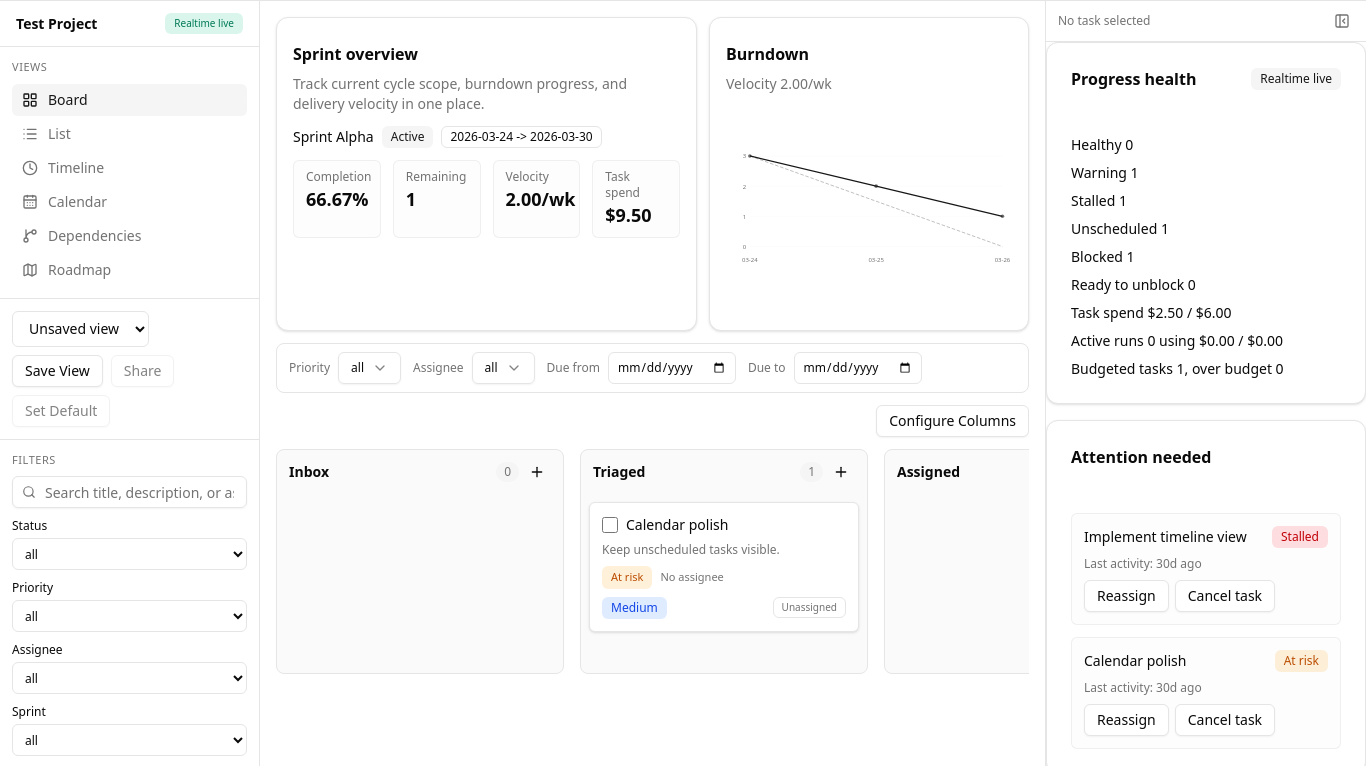
ProjectTaskWorkspace › renders progress health signals in the list workspace view
Click the button "List" at (130,134), box [12,118,247,150]
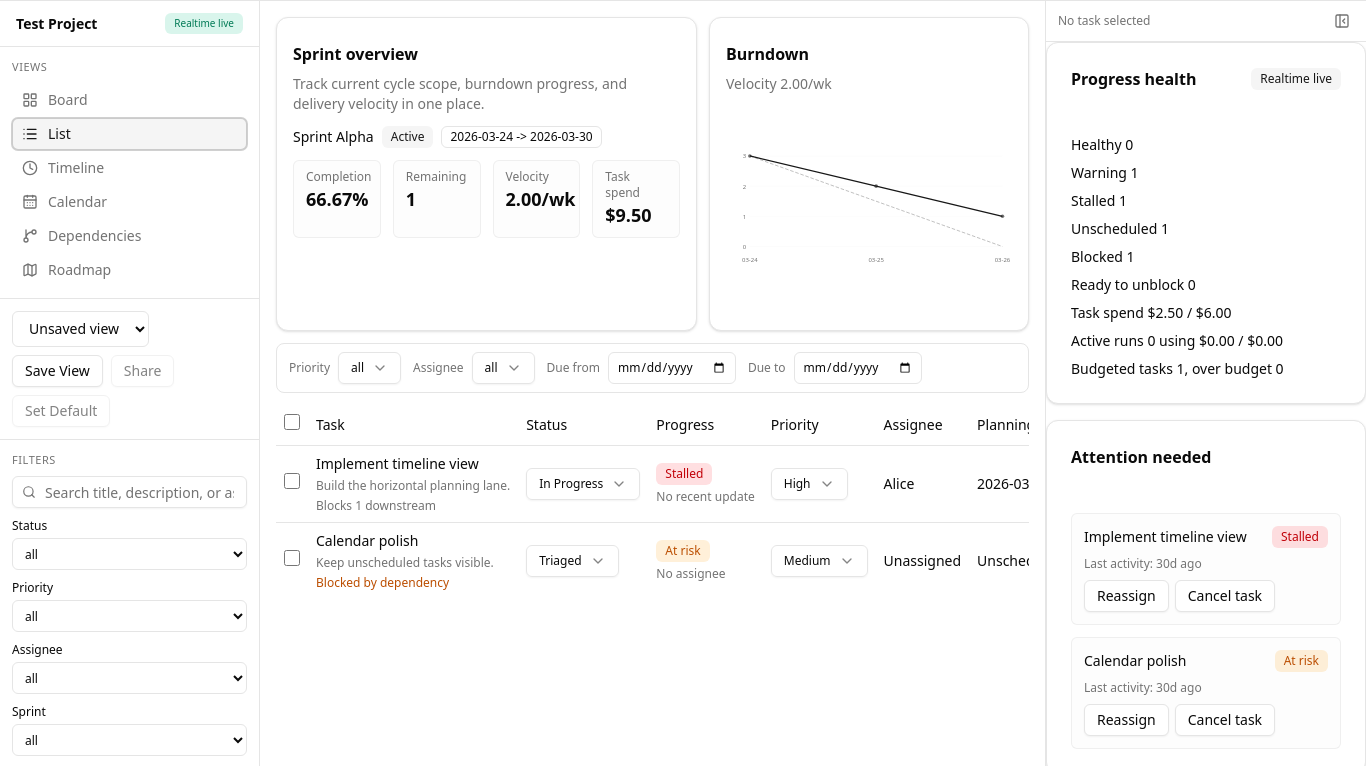
Expected: the text "At risk" in the row of "Keep unscheduled tasks visible." is shown, [665,542,701,558]
Result: the text "Stalled" in the row of "Build the horizontal planning lane." is shown at [665,464,703,482]
Result: the text "No recent update" is shown at [656,488,755,504]
